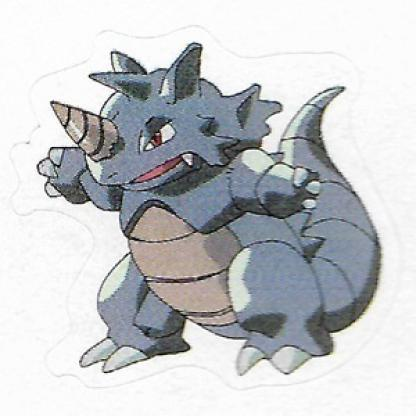Rhydon: (44, 41, 391, 390)
